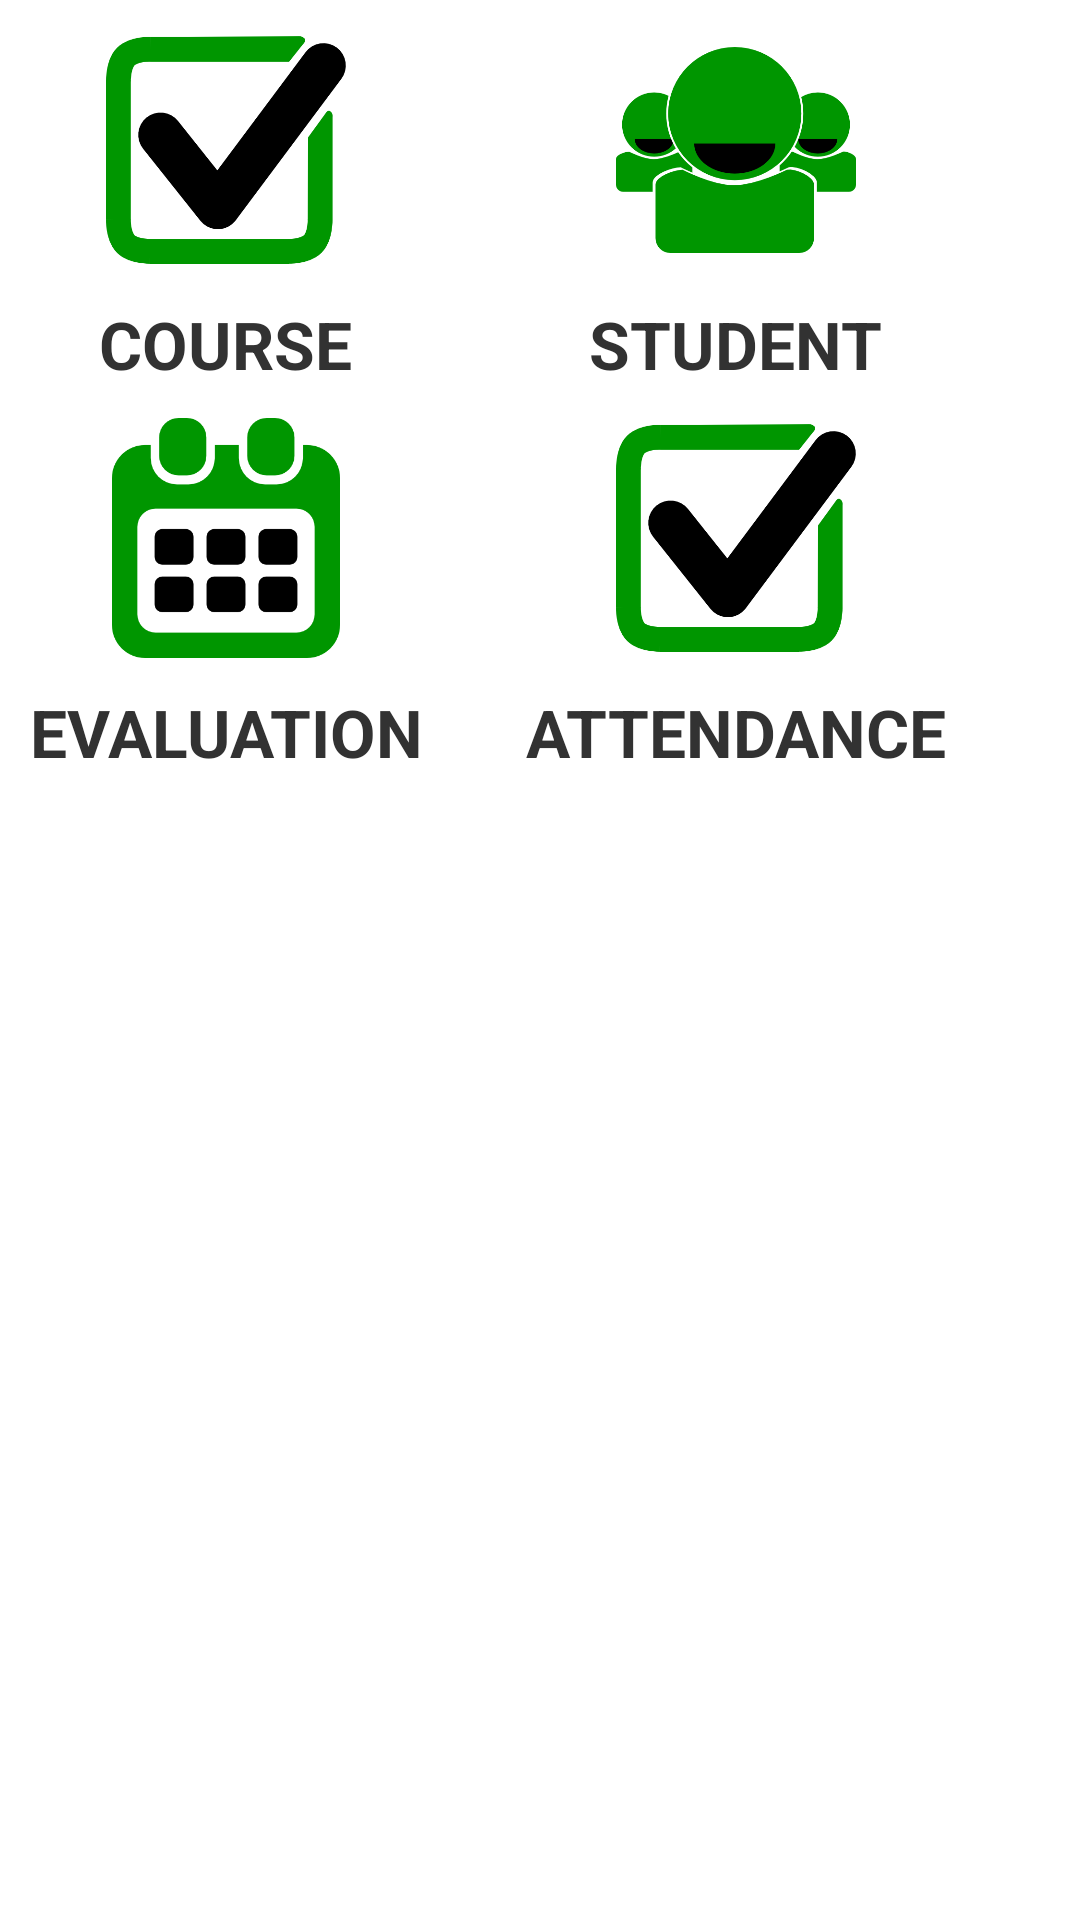

Screen size 1080px x 1920px. Icon name, then its center in pixels as (x=x, y=y):
calendar: (x=226, y=538)
